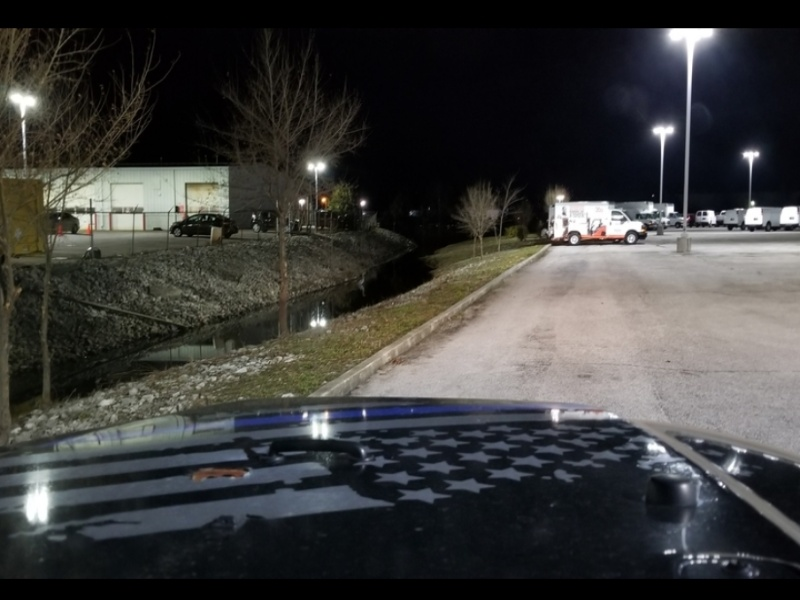heron: (356, 275, 368, 287)
